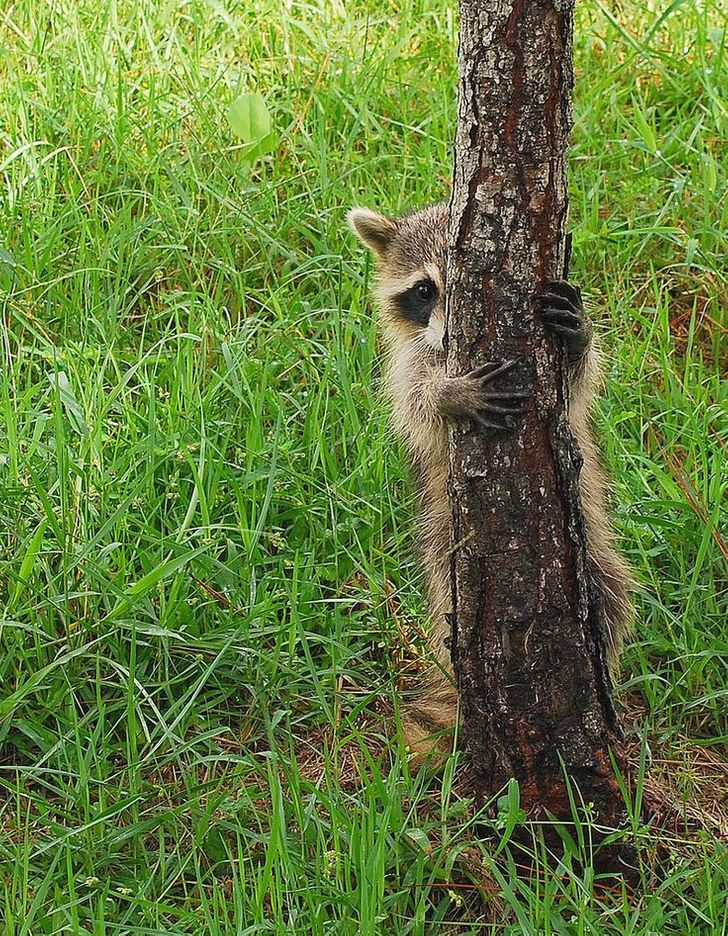raccoon: (352, 174, 580, 765)
